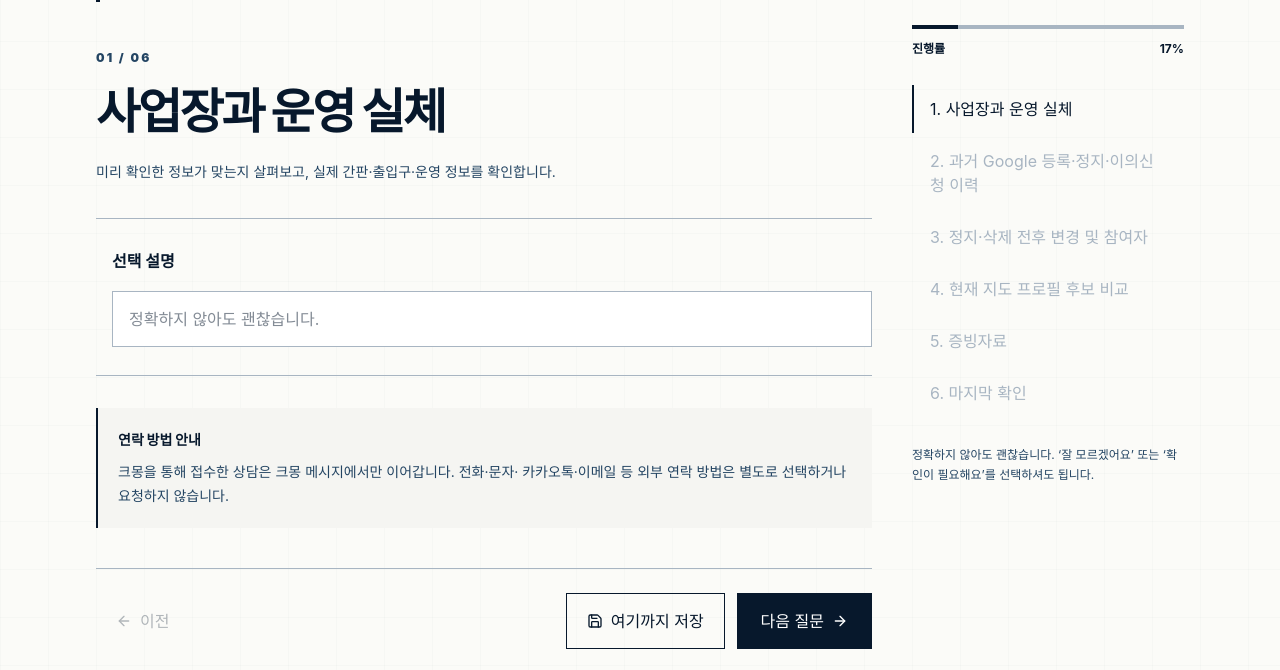
Test case: customer intake draft safety › never exposes local Zod details or an unapproved server error
(page scrolled)
Click the button "여기까지 저장": (645, 621) [566,593,725,649]
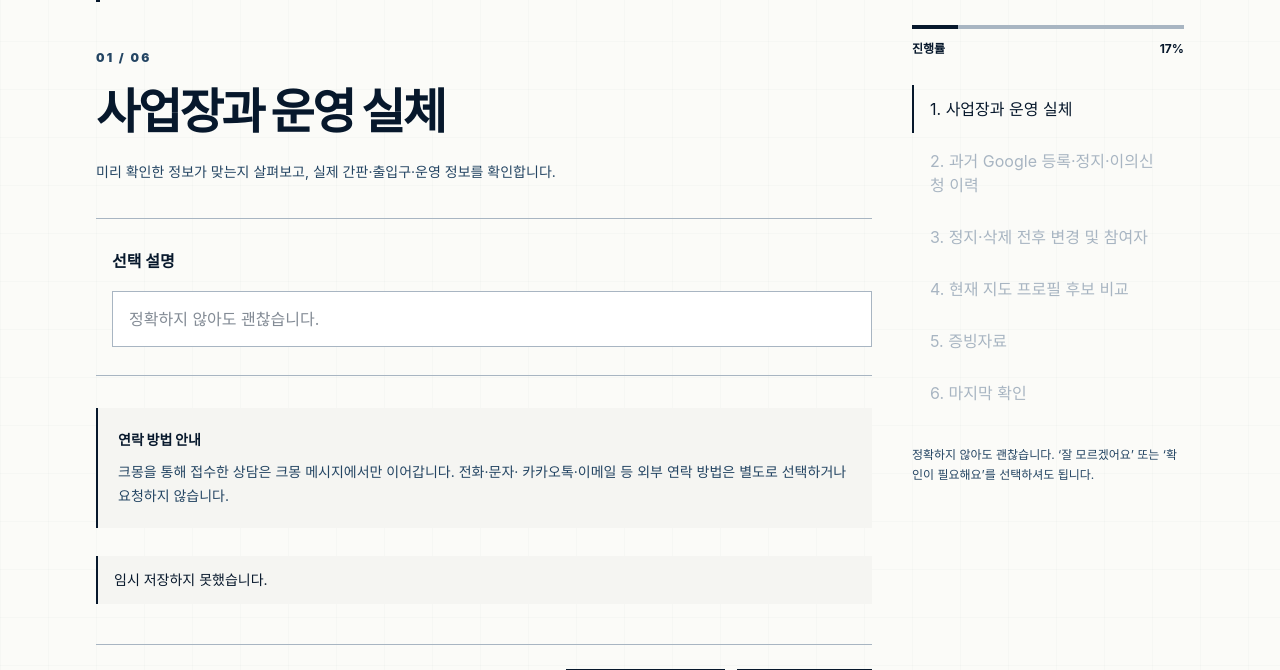
Expected: the message does not show "provider", [96,556,872,604]
Now the message reads "임시 저장하지 못했습니다.", box [114,571,268,588]
